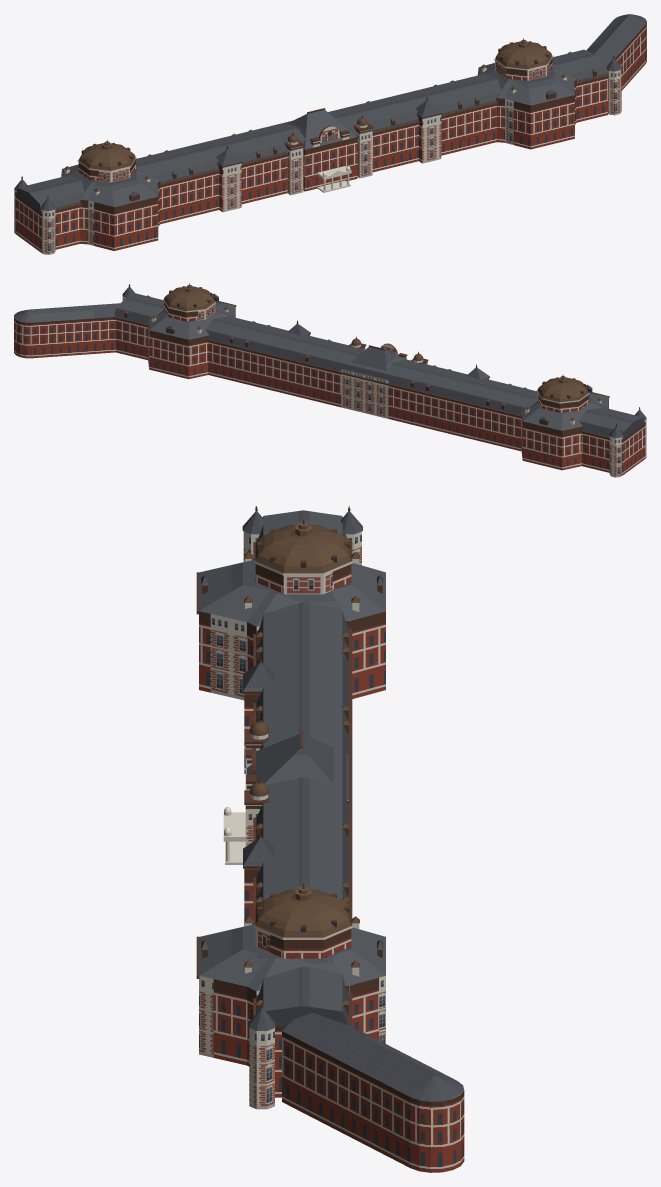
Rendered from tokyo_station.glb.
The picture shows the model from 3 angles, top to bottom: view 1: azimuth 30°, elevation 25°; view 2: azimuth 150°, elevation 25°; view 3: azimuth 270°, elevation 25°; orthographic projection. The views are drawn at different scales.
Parts seen in each view (by area): view 1: TokyoStation_Far, TokyoStation_Near; view 2: TokyoStation_Far, TokyoStation_Near; view 3: TokyoStation_Far, TokyoStation_Near.
Boxes of the visible parts, x1,y1,x2,y2 form: TokyoStation_Far: (16,16,646,252); TokyoStation_Near: (14,14,646,254); TokyoStation_Far: (14,289,645,475); TokyoStation_Near: (14,283,646,477); TokyoStation_Far: (199,511,464,1172); TokyoStation_Near: (196,506,463,1109).
Size of the model in its own units: 311 by 38.4 by 61.51.
Materials: 12 (7 with a texture image).
